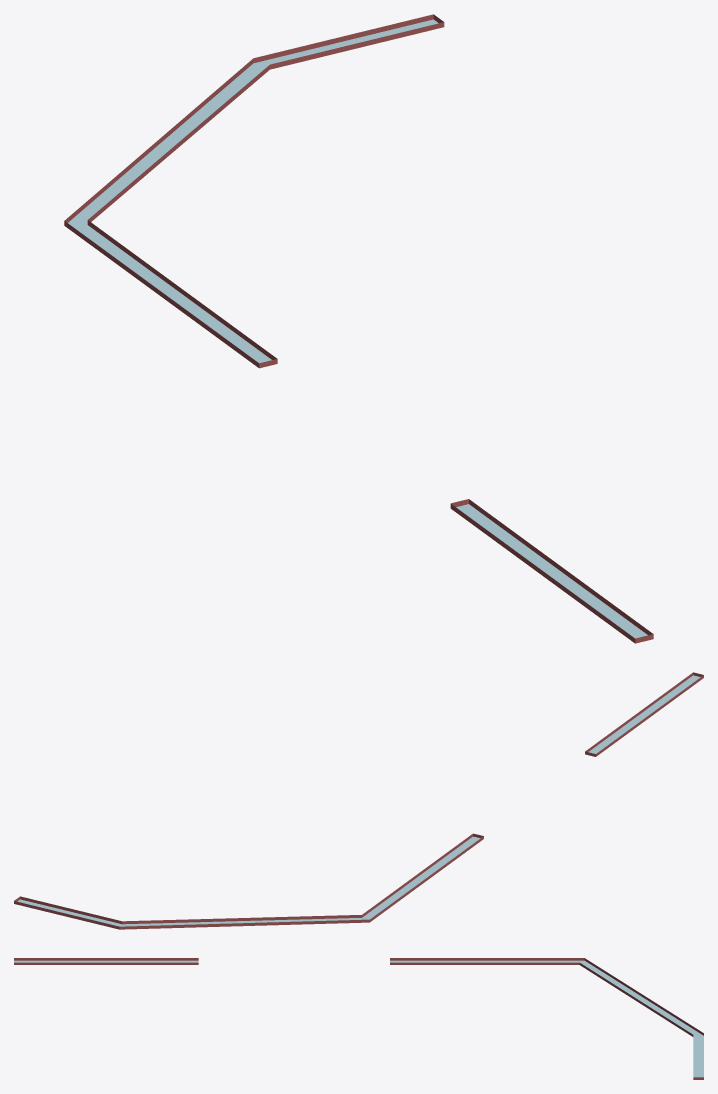
File: Kitchen_Backlight.fbx
3 views of the same model, one above another, from view 1: azimuth 30°, elevation 25°; view 2: azimuth 150°, elevation 25°; view 3: azimuth 270°, elevation 25° (orthographic). The views are drawn at different scales.
Visible parts, largest first — view 1: Kitchen_Backlight; view 2: Kitchen_Backlight; view 3: Kitchen_Backlight.
Part boxes in pixels (box(x1,y1,x2,y2)): Kitchen_Backlight: box(64, 14, 653, 643); Kitchen_Backlight: box(14, 672, 703, 929); Kitchen_Backlight: box(14, 958, 703, 1079).
Size of the model in its own units: 184 by 1.85 by 451.
